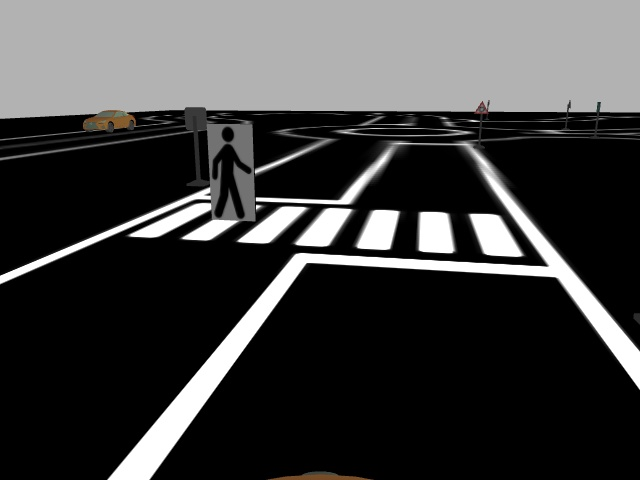pedestrian: (204, 121, 257, 223)
